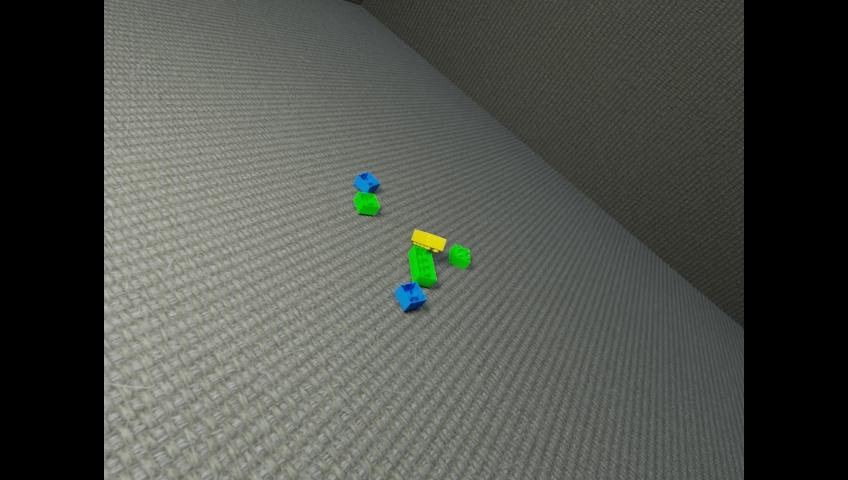2x2_blue: (394, 281, 426, 310), (353, 171, 379, 193)
2x2_green: (354, 191, 379, 215), (449, 244, 469, 269)
4x2_green: (408, 245, 435, 287)
4x2_yellow: (411, 229, 445, 251)
